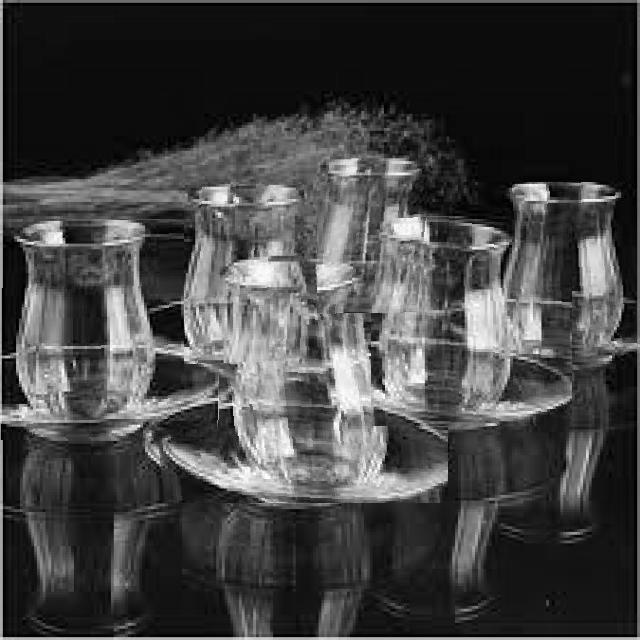Glass: (141, 262, 448, 504), (0, 220, 220, 440), (370, 214, 572, 426), (496, 182, 637, 372), (184, 184, 304, 364), (317, 155, 432, 314)
